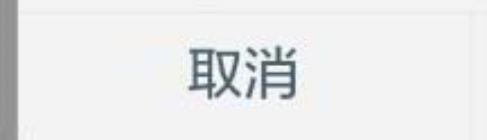Button: (1, 1, 486, 139)
